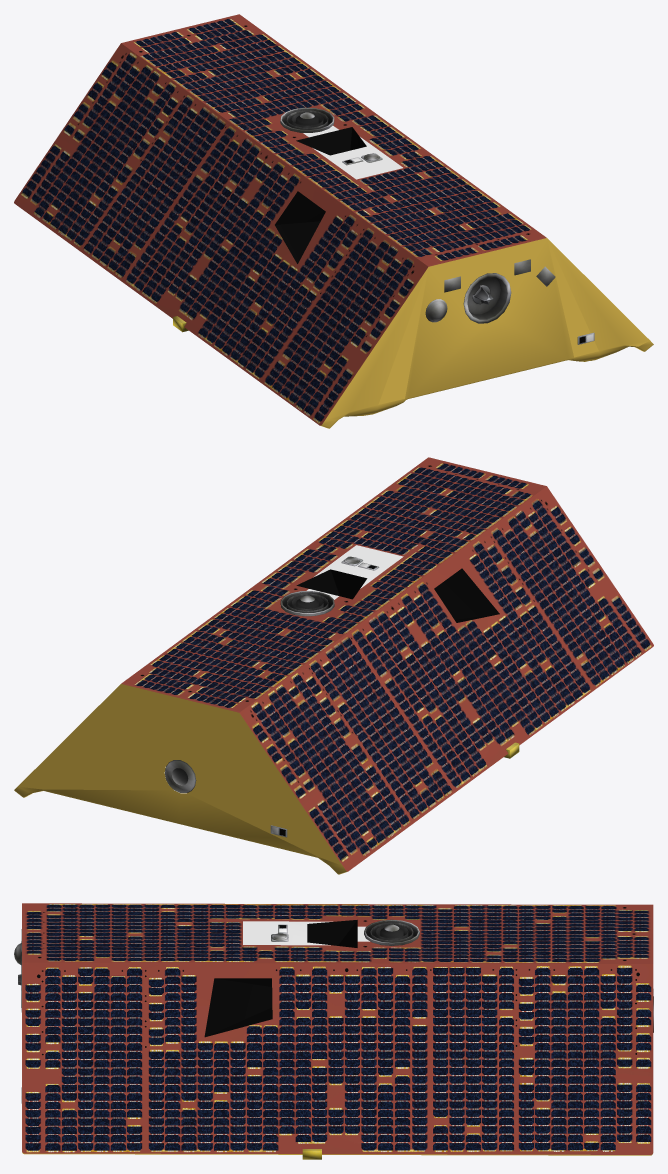
File: graceFO.glb
The picture shows the model from 3 angles, top to bottom: view 1: azimuth 30°, elevation 25°; view 2: azimuth 150°, elevation 25°; view 3: azimuth 270°, elevation 25°; orthographic projection. The views are drawn at different scales.
Parts seen in each view (by area): view 1: BUS, Instruments; view 2: BUS, Instruments; view 3: BUS, Instruments.
Part boxes in pixels (box(x1,y1,x2,y2)): BUS: box(14, 14, 653, 428); Instruments: box(173, 107, 594, 361); BUS: box(14, 457, 653, 874); Instruments: box(165, 556, 519, 837); BUS: box(22, 903, 653, 1155); Instruments: box(14, 919, 653, 1159).
Size of the model in its own units: 2.03 by 0.8541 by 3.25.
4 materials, 1 textured.
